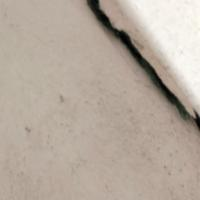crack: (77, 2, 199, 130)
